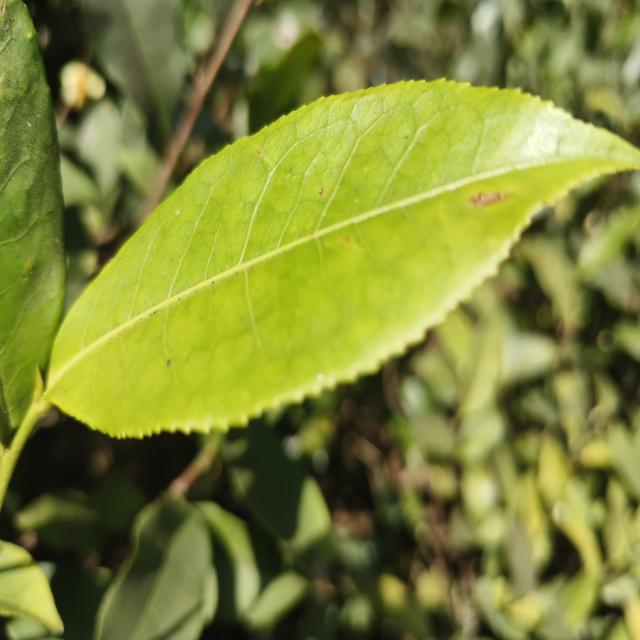Leaf: (46, 81, 640, 437), (0, 0, 66, 439), (94, 498, 218, 640), (222, 422, 335, 577), (82, 0, 189, 138), (0, 541, 63, 633), (15, 491, 106, 549)
